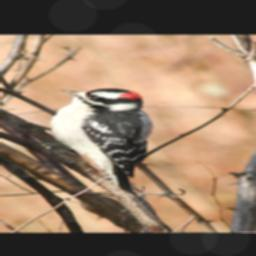Woodpecker: (42, 88, 153, 195)
